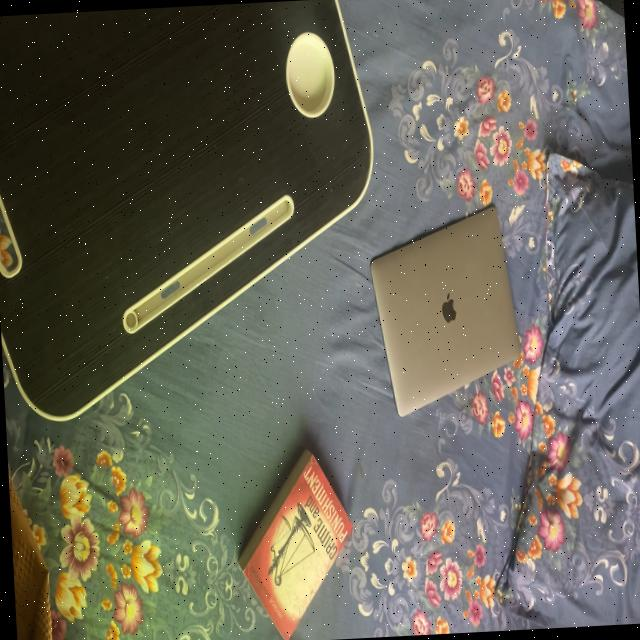book: (229, 428, 360, 640)
laptop: (362, 194, 526, 440)
table: (0, 0, 372, 417)
